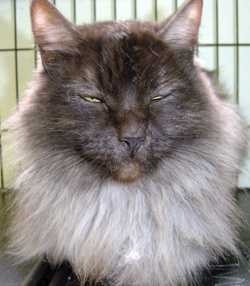Cat: (3, 0, 234, 267)
